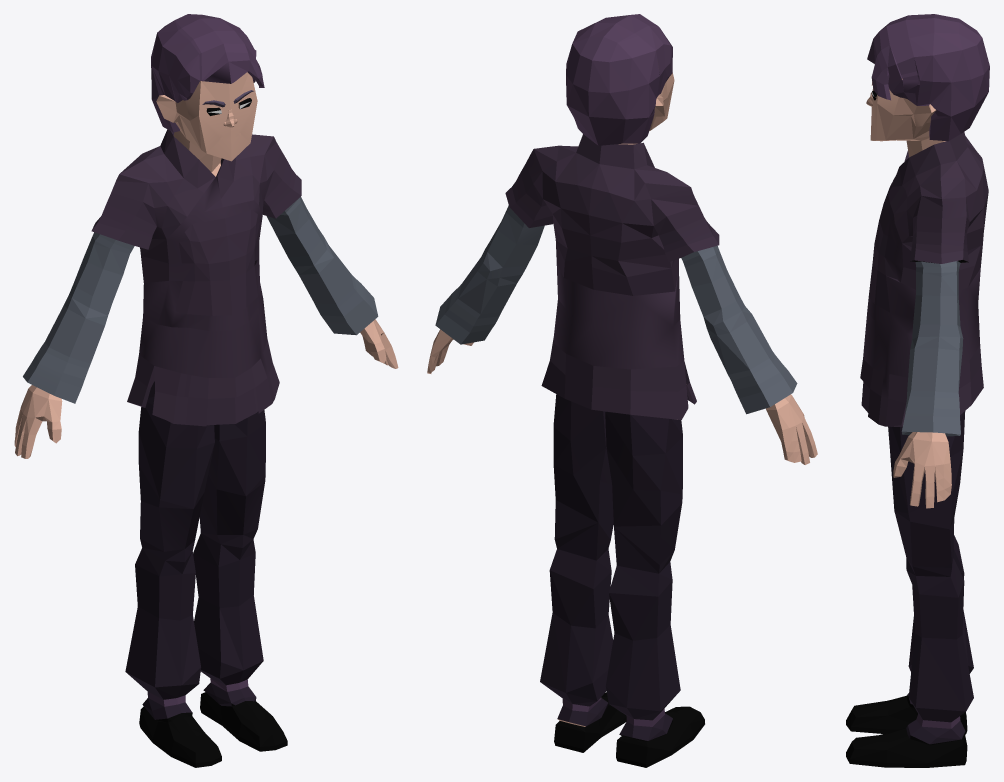
File: XR_model_arrogant.fbx
3 views of the same model, side by side, from view 1: azimuth 30°, elevation 25°; view 2: azimuth 150°, elevation 25°; view 3: azimuth 270°, elevation 25° (orthographic). The views are drawn at different scales.
Visible parts, largest first — view 1: Character_Female_Hotel Owner.001; view 2: Character_Female_Hotel Owner.001; view 3: Character_Female_Hotel Owner.001.
Part boxes in pixels (<box>): Character_Female_Hotel Owner.001: <box>14,14,398,767</box>; Character_Female_Hotel Owner.001: <box>427,14,817,767</box>; Character_Female_Hotel Owner.001: <box>846,14,989,767</box>.
Bounding box in the file's own units: 99.11 × 180 × 32.32.
